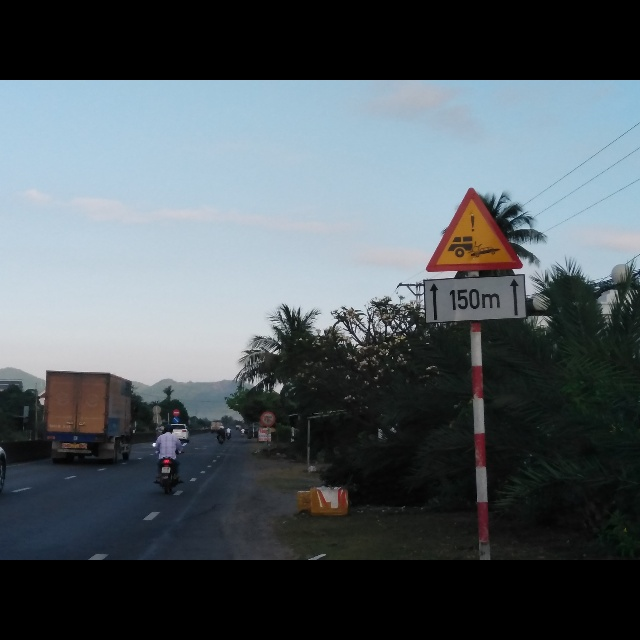Đoạn đường hay xảy ra tai nạn: (421, 187, 524, 272)
